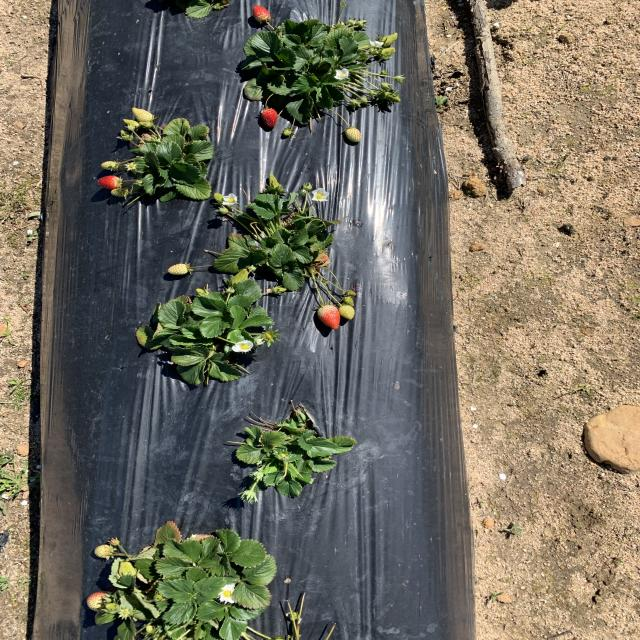unripe: (318, 307, 341, 330), (250, 4, 273, 23), (96, 175, 122, 189), (260, 108, 278, 128)
